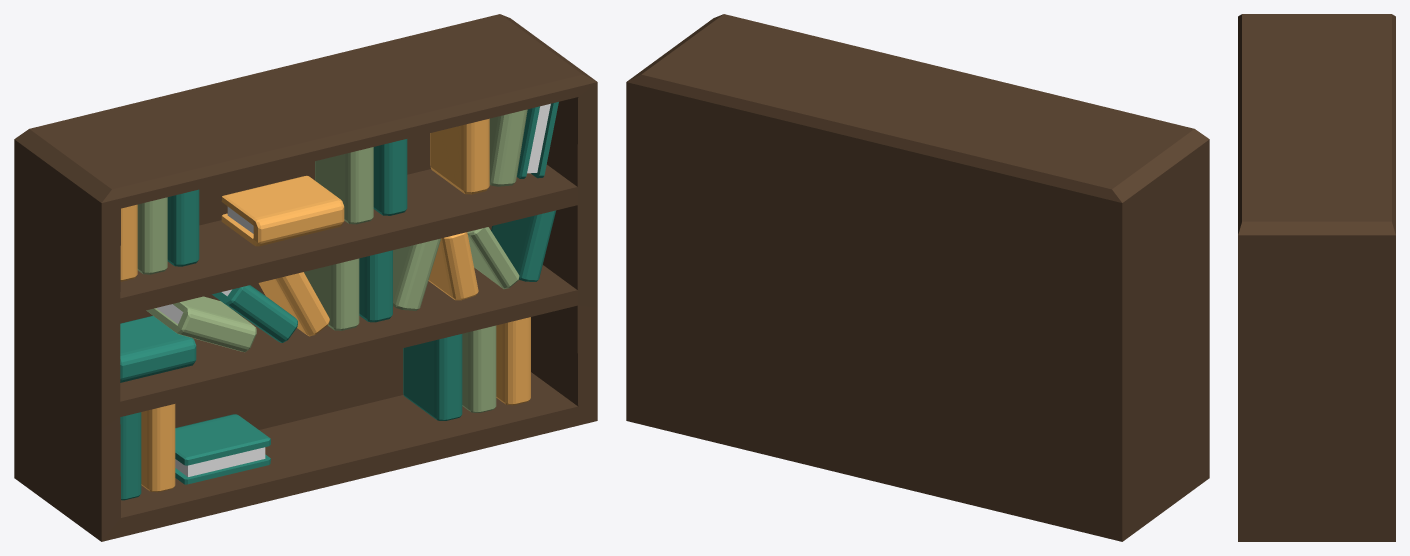
File: BookShelf_1.fbx
The picture shows the model from 3 angles, left to right: view 1: azimuth 30°, elevation 25°; view 2: azimuth 150°, elevation 25°; view 3: azimuth 270°, elevation 25°; orthographic projection. The views are drawn at different scales.
Visible parts, largest first — view 1: Cube, Cube.031, Cube.024, Cube.037, Cube.004, Cube.021, Cube.016; view 2: Cube; view 3: Cube.
Boxes of the visible parts, x1,y1,x2,y2 form: Cube: (14,14,597,541); Cube.031: (120,210,556,382); Cube.024: (221,139,407,246); Cube.037: (403,317,530,420); Cube.004: (120,404,270,500); Cube.021: (430,102,558,194); Cube.016: (120,189,199,281); Cube: (626,14,1209,541); Cube: (1238,14,1395,541).
Size of the model in its own units: 657 by 440 by 200.
